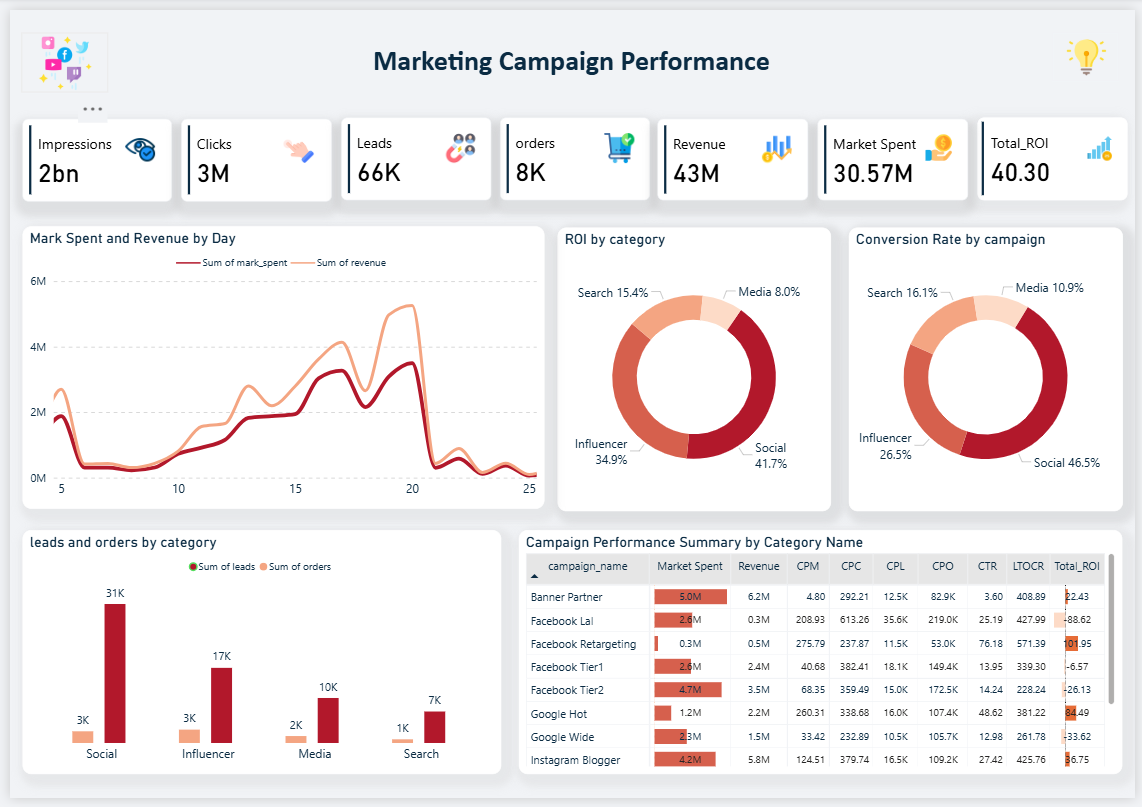

Layout of this report page (visuals, bound fields, positions):
{"tool":"powerbi","page":{"name":"Campain Category","canvas":[1500,1050],"ordinal":0},"visuals":[{"type":"donutChart","title":"ROI by category","fields":{"Category":["Marketing.category"],"Y":["Sum(Marketing.ROI)"]},"box":[730.2,290.6,365,378],"z":0},{"type":"donutChart","title":"Conversion Rate by campaign","fields":{"Category":["Marketing.category"],"Y":["Sum(Marketing.Conversion Rate)"]},"box":[1117.7,290.2,365.6,378.4],"z":1000},{"type":"clusteredColumnChart","title":"leads and orders by category","fields":{"Category":["Marketing.category"],"Y":["Sum(Marketing.leads)","Sum(Marketing.orders)"]},"box":[16,692.7,638.2,325.5],"z":2000},{"type":"cardVisual","fields":{"Data":["Table.orders"]},"box":[654,144,200,110],"z":3000},{"type":"cardVisual","title":"ROI","fields":{"Data":["Table.Total_ROI"]},"box":[1290,144,200,110],"z":4000},{"type":"cardVisual","fields":{"Data":["Table.Market Spent"]},"box":[1076,144.3,200.4,109],"z":5000},{"type":"textbox","box":[227.7,30.5,1048.7,99.4],"z":6000},{"type":"cardVisual","fields":{"Data":["Table.Revenue"]},"box":[864,144.3,200.4,109],"z":7000},{"type":"cardVisual","title":"improgain","fields":{"Data":["Table.Impressions"]},"box":[16,144.3,198.8,110],"z":8000},{"type":"lineChart","title":"Mark Spent and Revenue by Day","fields":{"Category":["Marketing.c_date.Variation.Date Hierarchy.Day"],"Y":["Sum(Marketing.mark_spent)","Sum(Marketing.revenue)"]},"box":[16,288.6,695.9,376.8],"z":9000},{"type":"cardVisual","fields":{"Data":["Table.Clicks"]},"box":[227.7,144.3,200.4,110],"z":10000},{"type":"cardVisual","fields":{"Data":["Table.Leads"]},"box":[442,144,200,110],"z":11000},{"type":"pivotTable","title":"Campaign Performance Summary by Category Name","fields":{"Rows":["Marketing.campaign_name"],"Values":["Table.Market Spent","Table.Revenue","Marketing.CPM","Table.CPC","Table.CPL","Table.CPO","Table.CTR","Table.LTOCR","Table.Total_ROI"]},"box":[678.3,692.7,805,325.5],"z":12000},{"type":"image","box":[15.8,29.9,115.9,80.8],"z":13000},{"type":"image","box":[1390,30,88.3,65],"z":14000}]}

Visuals, with their boxes in screenshot pixels (x1, y1, x2, y2), scaled from the page's 1500x1050 canvas onto the 1142x807 screenshot:
"ROI by category" donutChart: 556/223/834/514
"Conversion Rate by campaign" donutChart: 851/223/1129/514
"leads and orders by category" clusteredColumnChart: 12/532/498/783
cardVisual - Table.orders: 498/111/650/195
"ROI" cardVisual: 982/111/1134/195
cardVisual - Table.Market Spent: 819/111/972/195
textbox: 173/23/972/100
cardVisual - Table.Revenue: 658/111/810/195
"improgain" cardVisual: 12/111/164/195
"Mark Spent and Revenue by Day" lineChart: 12/222/542/511
cardVisual - Table.Clicks: 173/111/326/195
cardVisual - Table.Leads: 337/111/489/195
"Campaign Performance Summary by Category Name" pivotTable: 516/532/1129/783
image: 12/23/100/85
image: 1058/23/1125/73
